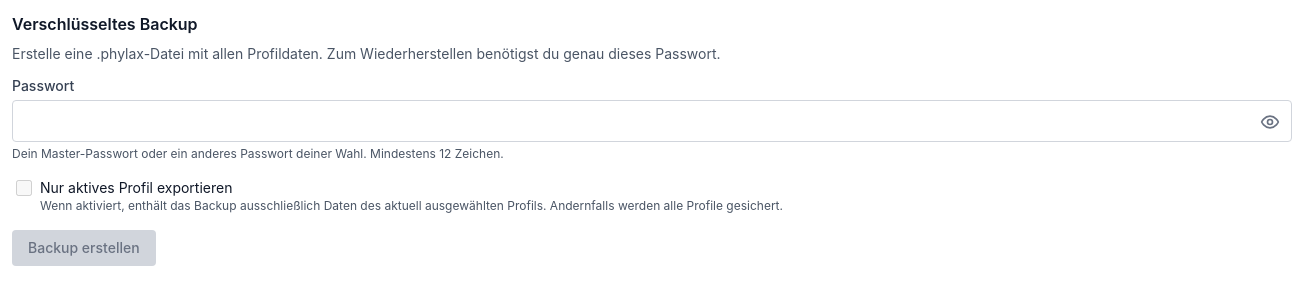
Test: BackupExportSection › shows the success panel with filename after a successful export
Type "long-enough-12" into the password field labelled "Passwort" at (652, 121), box [12,100,1292,142]
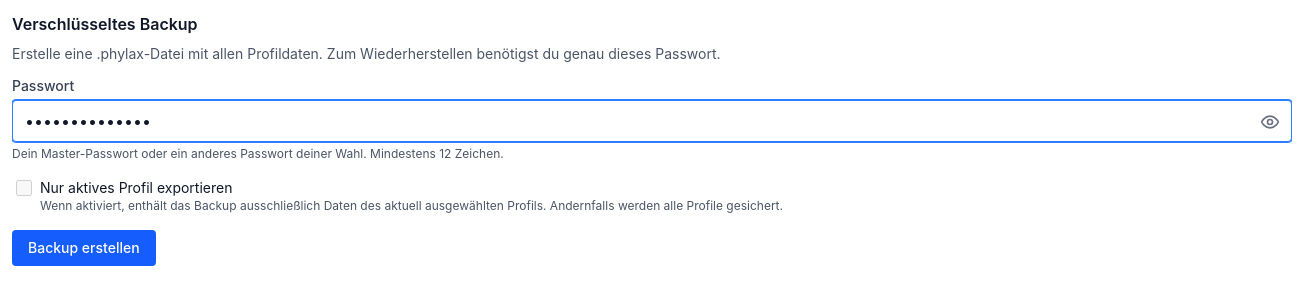
Click the button "Backup erstellen" at (84, 248), box [12,230,156,266]
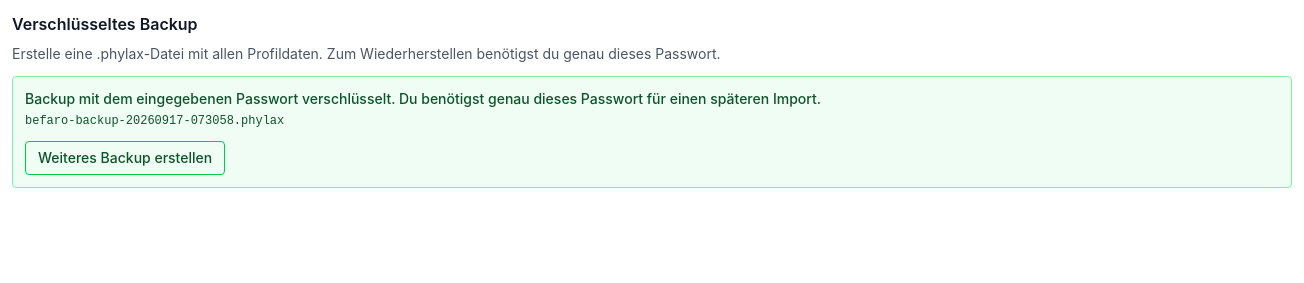
Expected: the text "Backup mit dem eingegebenen Passwort" is shown, [25,90,821,107]
Expected: the text "befaro-backup-20260917-073058.phylax" is shown, [25,114,284,128]
